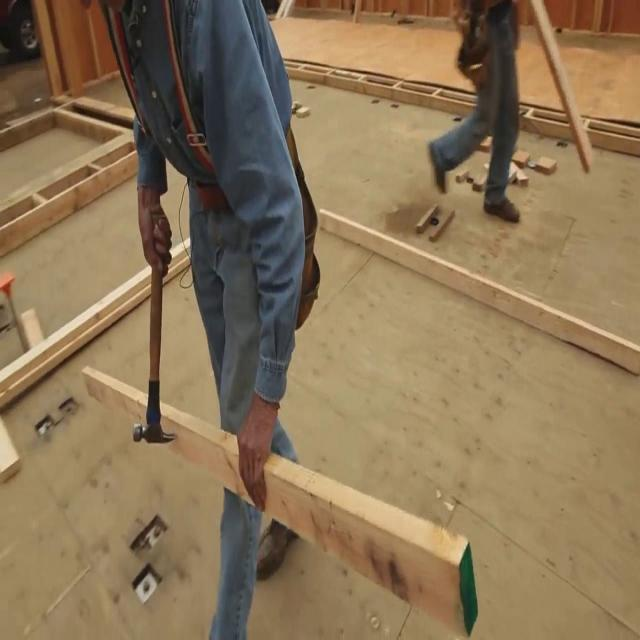hammer: (133, 263, 176, 443)
